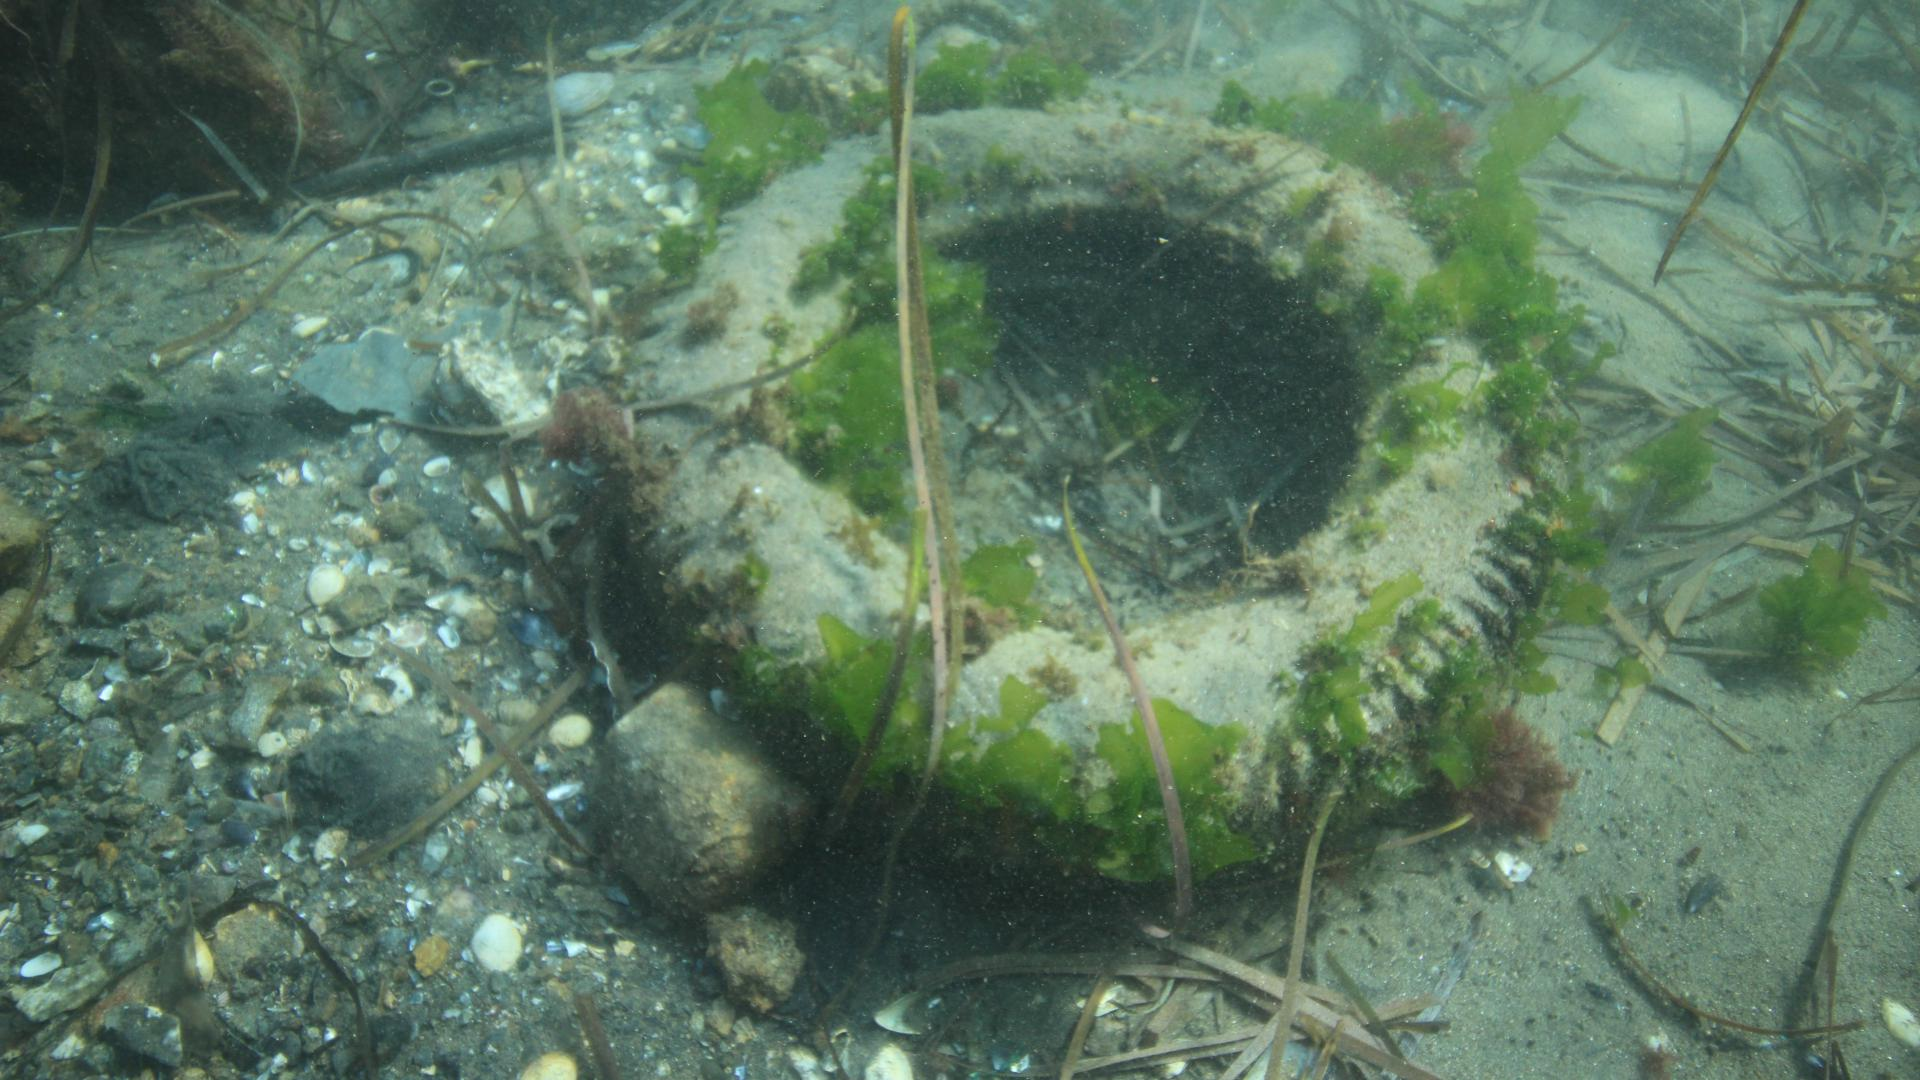tire: (611, 102, 1568, 909)
